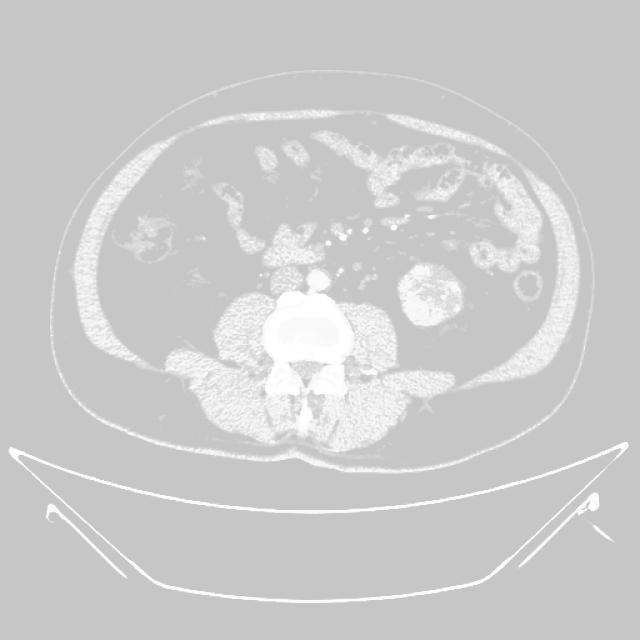TUMOR: (318, 227, 474, 321)
